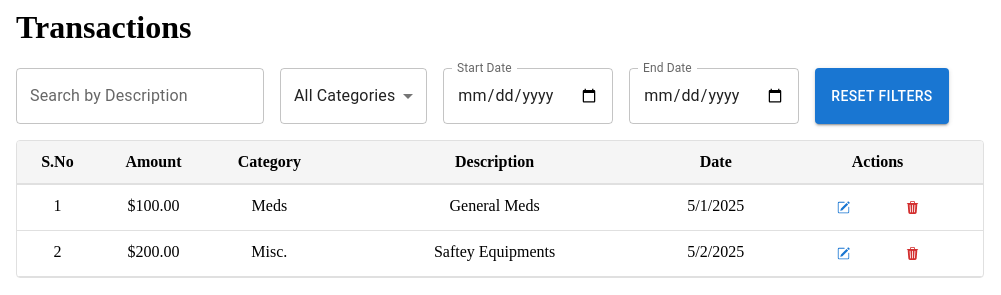
Scenario: TransactionsPage Component › handles delete transaction
The image size is (1001, 295).
Click the button named "Delete Transaction" in the row of "100.00" at (912, 207), box [880,197,944,218]
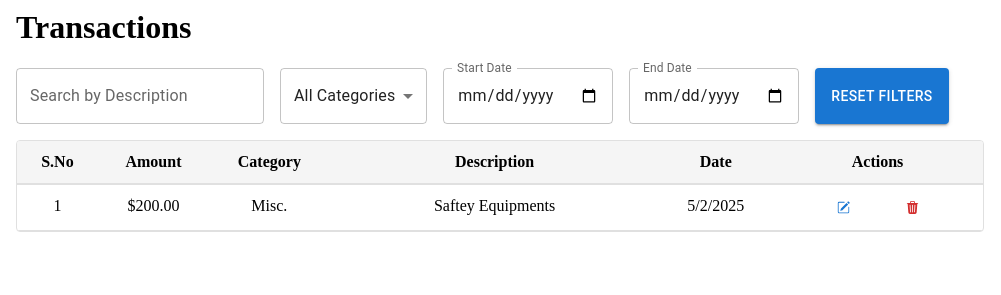
Expected: the text "Saftey Equipments" is shown, [330,184,660,230]
Result: the text "General Meds" is gone
